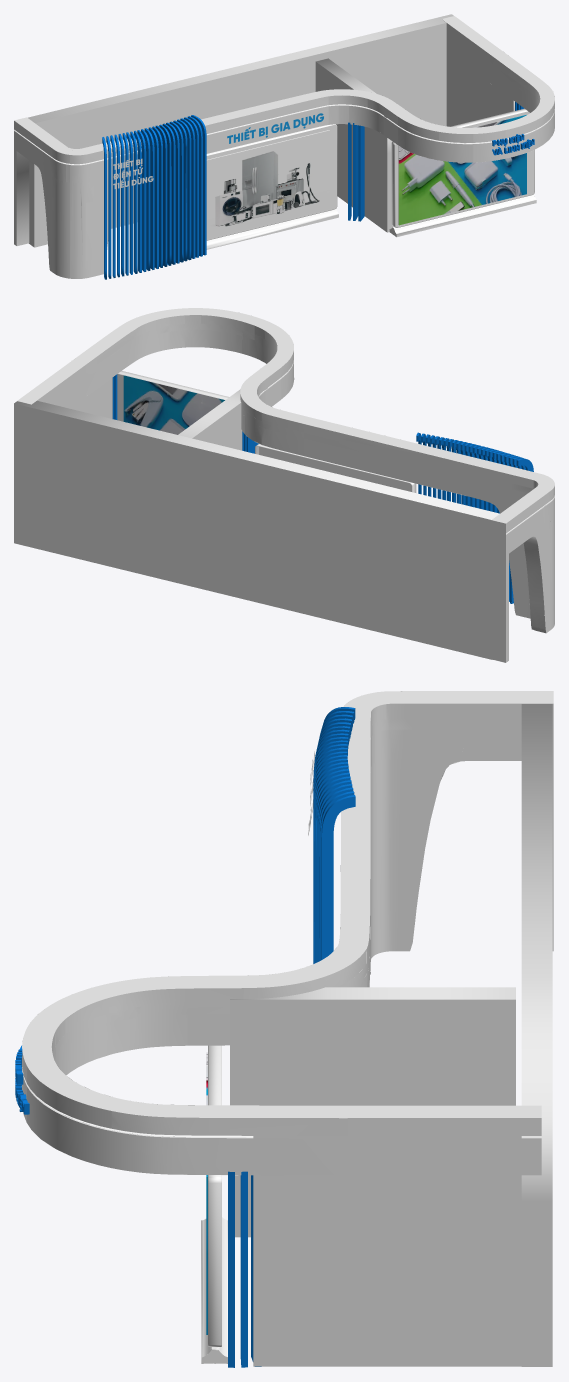
File: tech_l2.glb
3 views of the same model, one above another, from view 1: azimuth 30°, elevation 25°; view 2: azimuth 150°, elevation 25°; view 3: azimuth 270°, elevation 25° (orthographic). The views are drawn at different scales.
Visible parts, largest first — view 1: _l2_booth, _l2_decor.001, _l2_panel.001, _l2_panel, _l2_decor.002, _l2_text.001, _l2_text, _l2_text.002; view 2: _l2_booth, _l2_panel, _l2_decor.001, _l2_panel.001; view 3: _l2_booth, _l2_decor.001, _l2_panel, _l2_decor.
Boxes of the visible parts, bbox=[...] form: _l2_booth: bbox=[14, 14, 554, 278]; _l2_decor.001: bbox=[102, 115, 206, 279]; _l2_panel.001: bbox=[206, 124, 338, 249]; _l2_panel: bbox=[389, 108, 536, 237]; _l2_decor.002: bbox=[348, 122, 364, 221]; _l2_text.001: bbox=[227, 113, 323, 143]; _l2_text: bbox=[113, 158, 153, 188]; _l2_text.002: bbox=[492, 134, 534, 155]; _l2_booth: bbox=[14, 308, 554, 662]; _l2_panel: bbox=[117, 371, 229, 434]; _l2_decor.001: bbox=[416, 432, 533, 603]; _l2_panel.001: bbox=[255, 444, 416, 492]; _l2_booth: bbox=[22, 691, 553, 1366]; _l2_decor.001: bbox=[313, 707, 355, 963]; _l2_panel: bbox=[201, 1045, 227, 1363]; _l2_decor: bbox=[228, 1171, 261, 1367].
Bounding box in the file's own units: 19.02 × 5.62 × 10.12.
13 materials, 4 textured.
